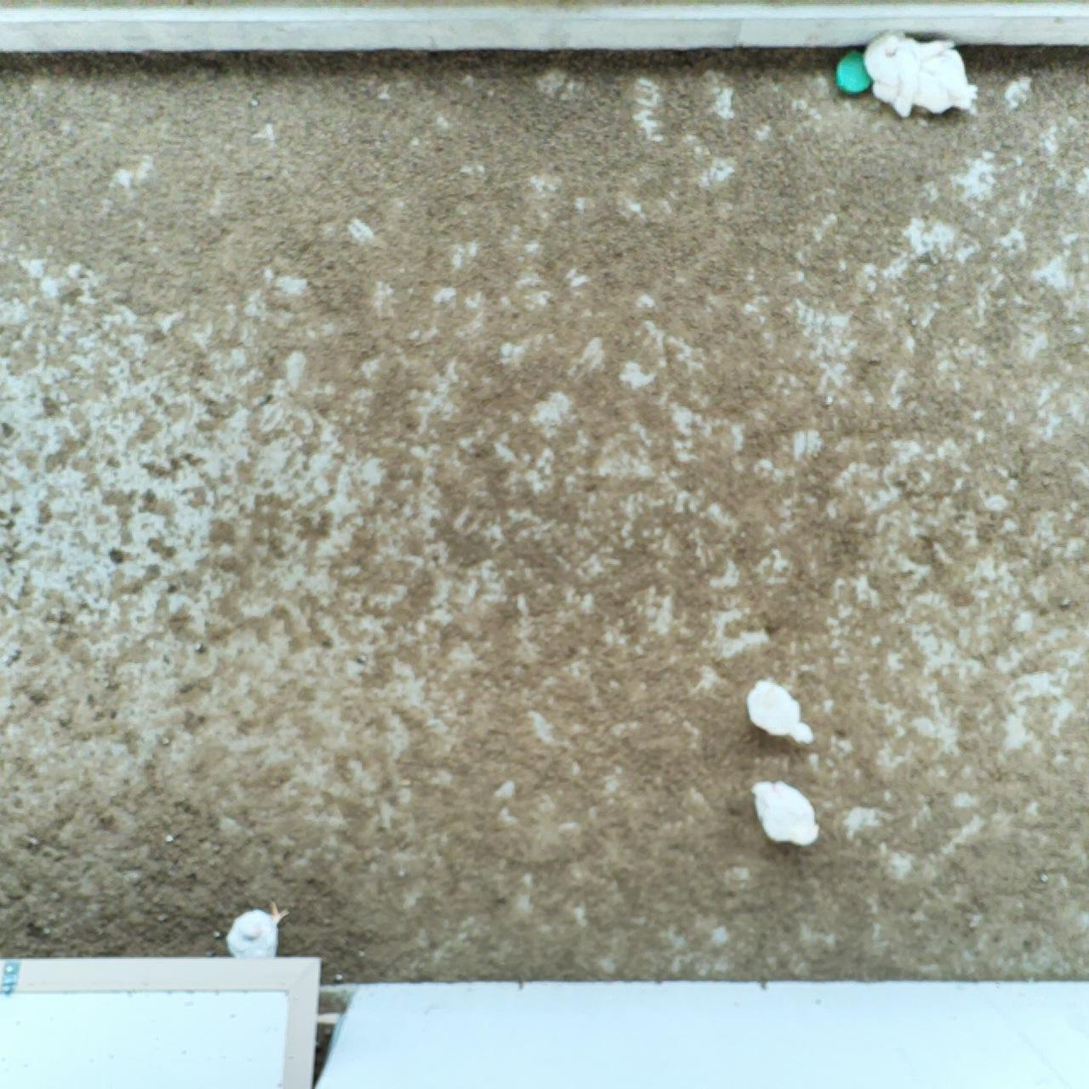chicken: (739, 674, 821, 751), (743, 774, 824, 851), (861, 27, 927, 119), (911, 37, 979, 120), (223, 900, 291, 964)
